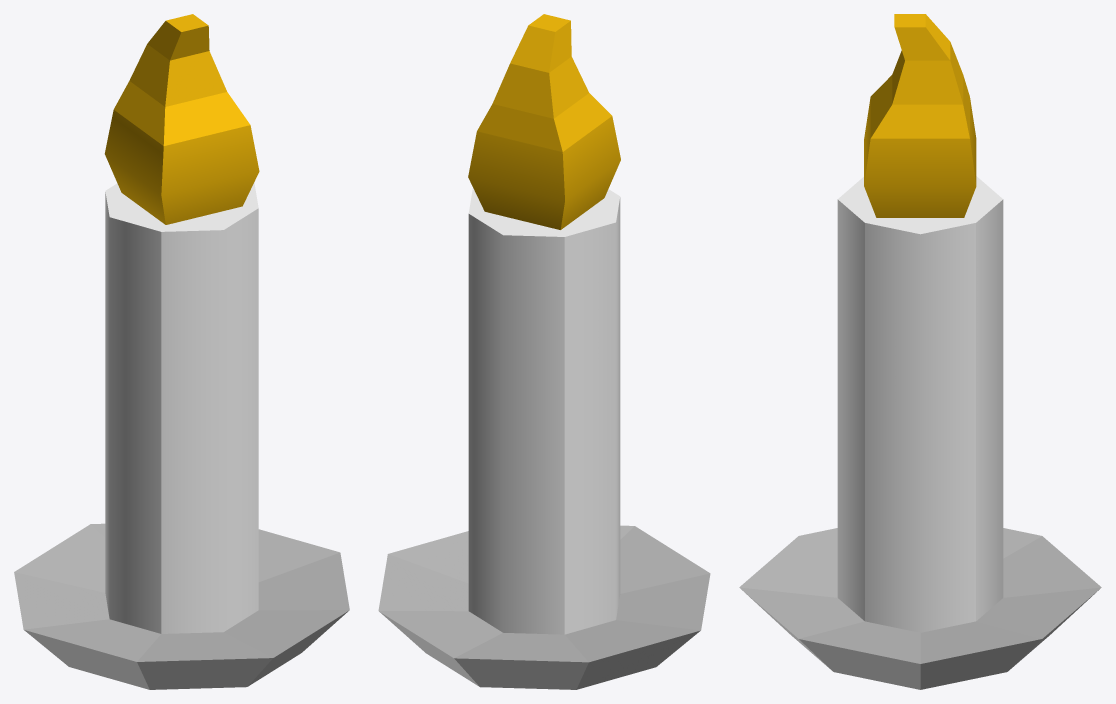
Rendered from prop export - candle 1.fbx.
3 views of the same model, side by side, from view 1: azimuth 30°, elevation 25°; view 2: azimuth 150°, elevation 25°; view 3: azimuth 270°, elevation 25° (orthographic).
Parts seen in each view (by area): view 1: pCube2, pCube3; view 2: pCube2, pCube3; view 3: pCube2, pCube3.
Part boxes in pixels (x1,y1,x2,y2): pCube2: (14,182,349,689); pCube3: (104,14,259,224); pCube2: (378,188,710,689); pCube3: (468,14,620,229); pCube2: (739,176,1101,689); pCube3: (864,14,976,217).
Bounding box in the file's own units: 18.23 × 34.09 × 18.23.
